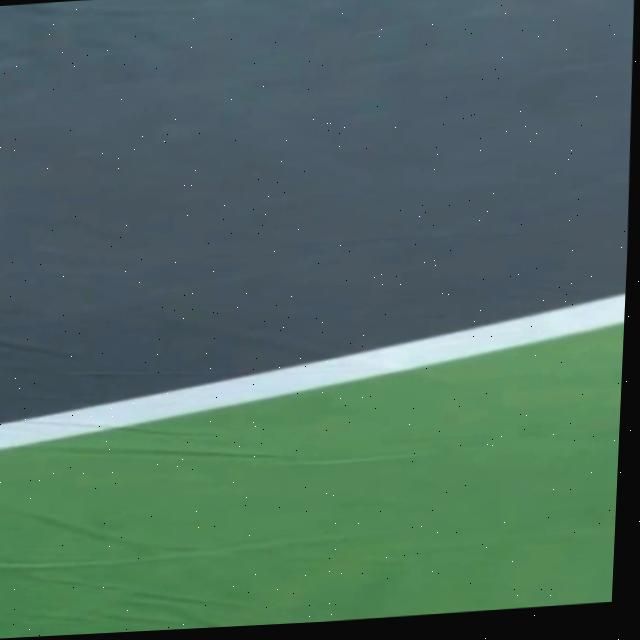right: (0, 292, 626, 448)
